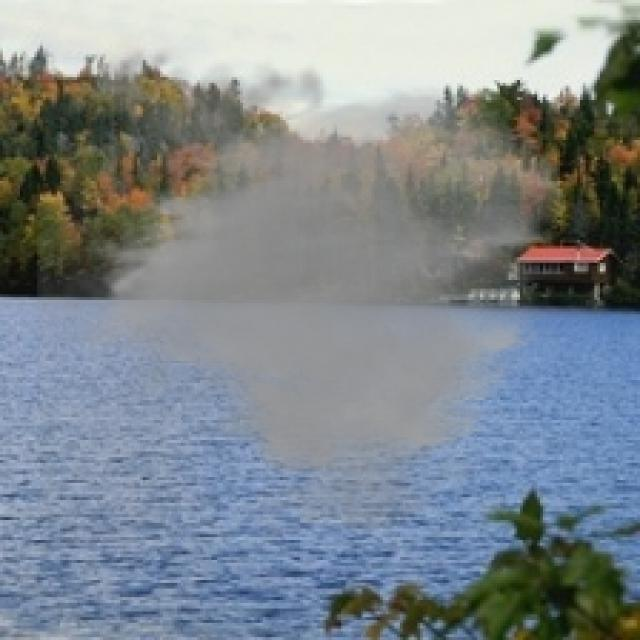smoke: (37, 31, 572, 546)
